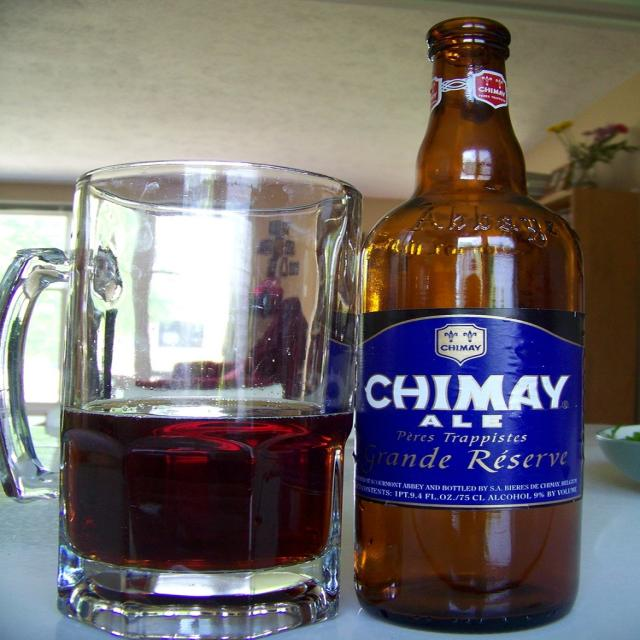chimay: (355, 316, 585, 507)
